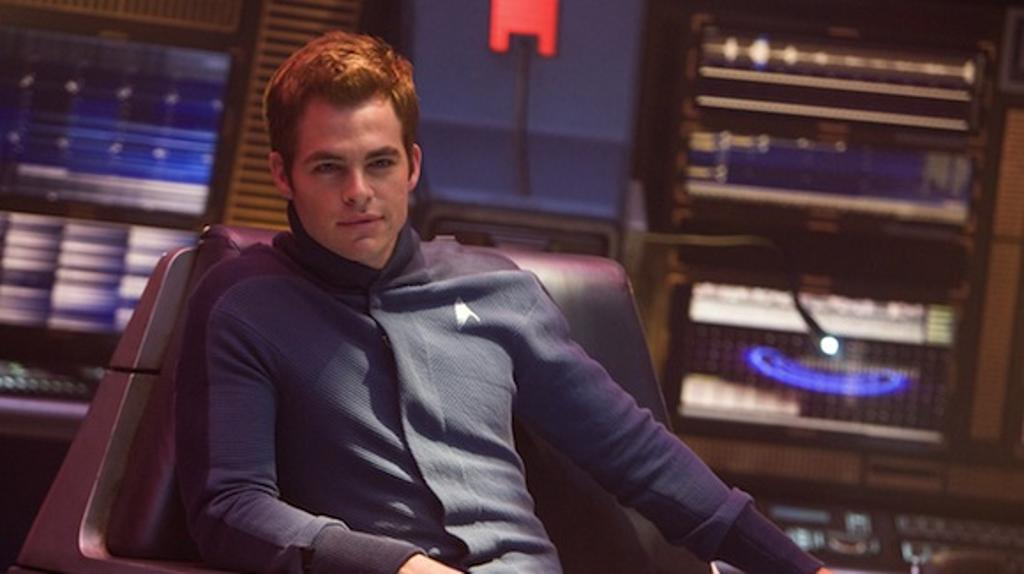face: (300, 90, 416, 242)
